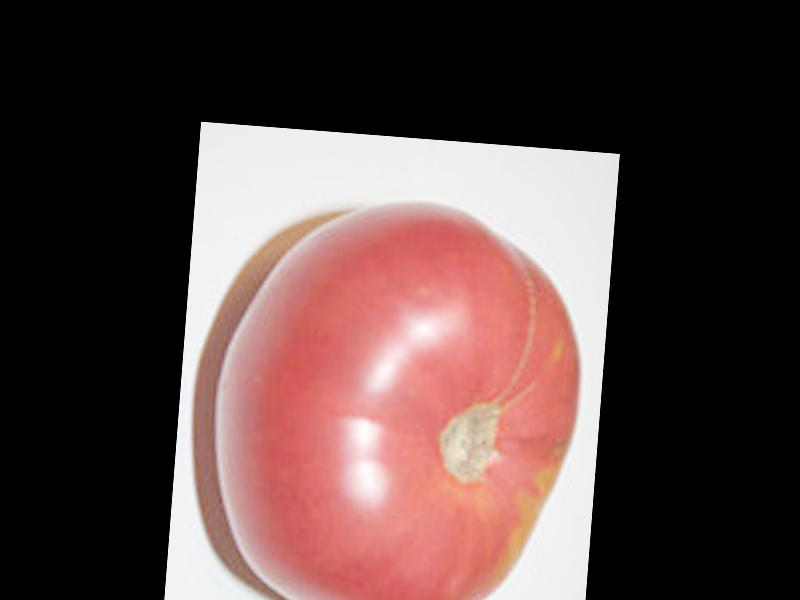Tomato: (209, 187, 598, 600)
